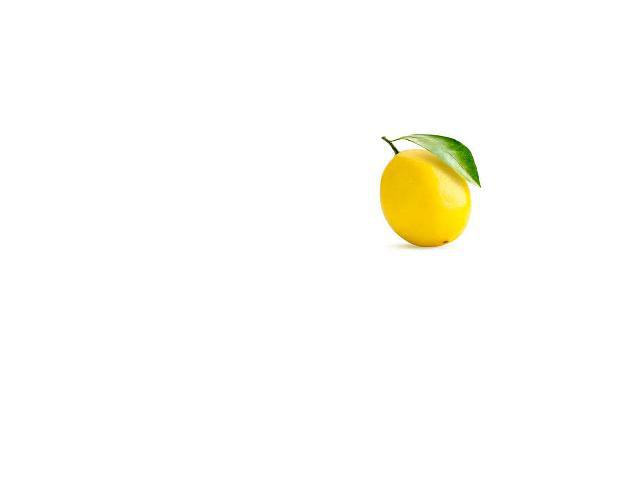lemon: (372, 142, 469, 248)
